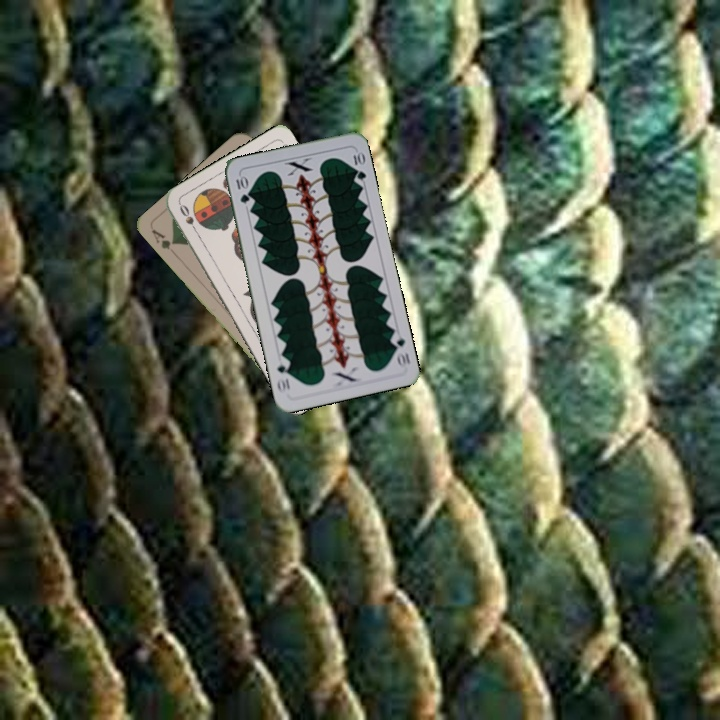G10: (387, 329, 413, 370), (232, 172, 252, 206)
GA: (147, 225, 178, 252)
SO: (175, 200, 201, 237)
